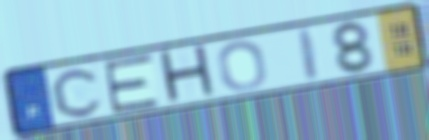8: (329, 20, 376, 75)
C: (49, 66, 106, 119)
E: (101, 51, 163, 116)
H: (155, 42, 220, 107)
I: (295, 25, 322, 83)
O: (215, 39, 270, 92)
